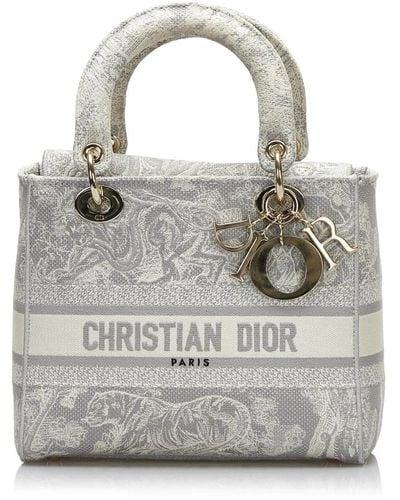DIOR: (66, 298, 307, 374)
